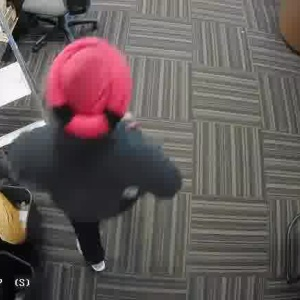person: (23, 41, 162, 252)
